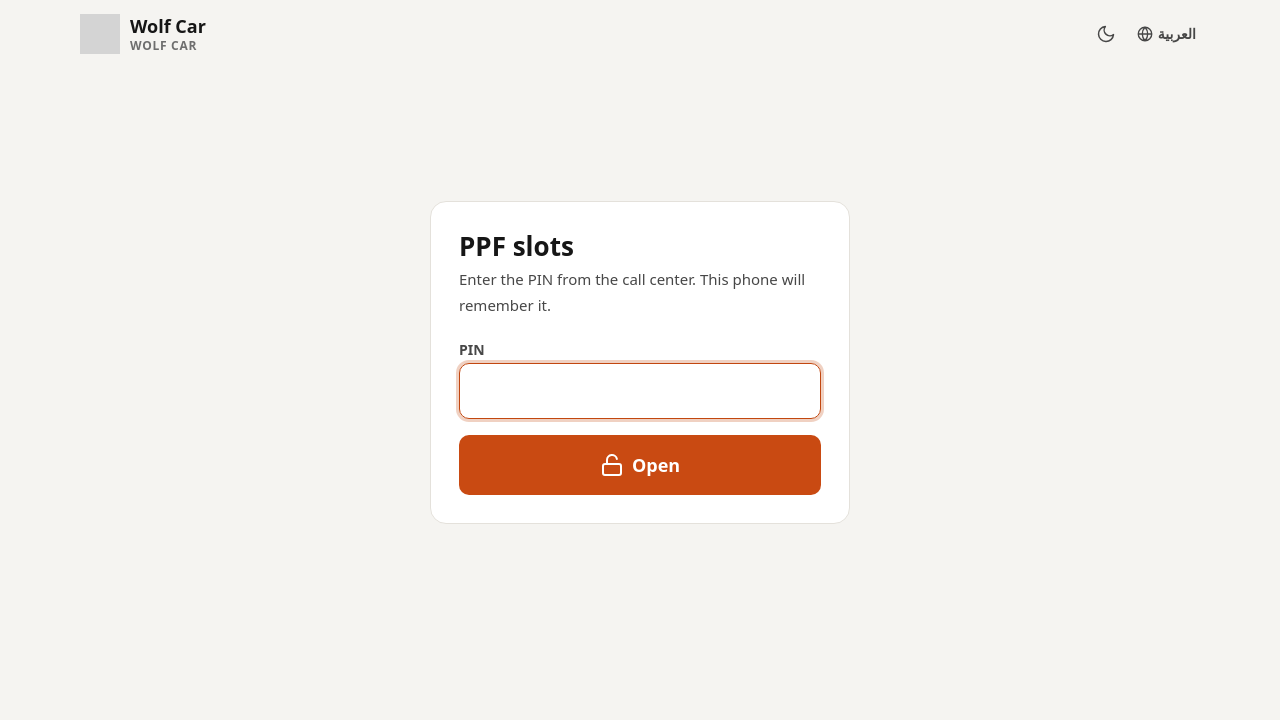
it: Sales slots page › tells the salesperson how long the PIN is locked
Type "482915" into the field labelled "PIN" at (640, 390), box [459, 362, 821, 418]
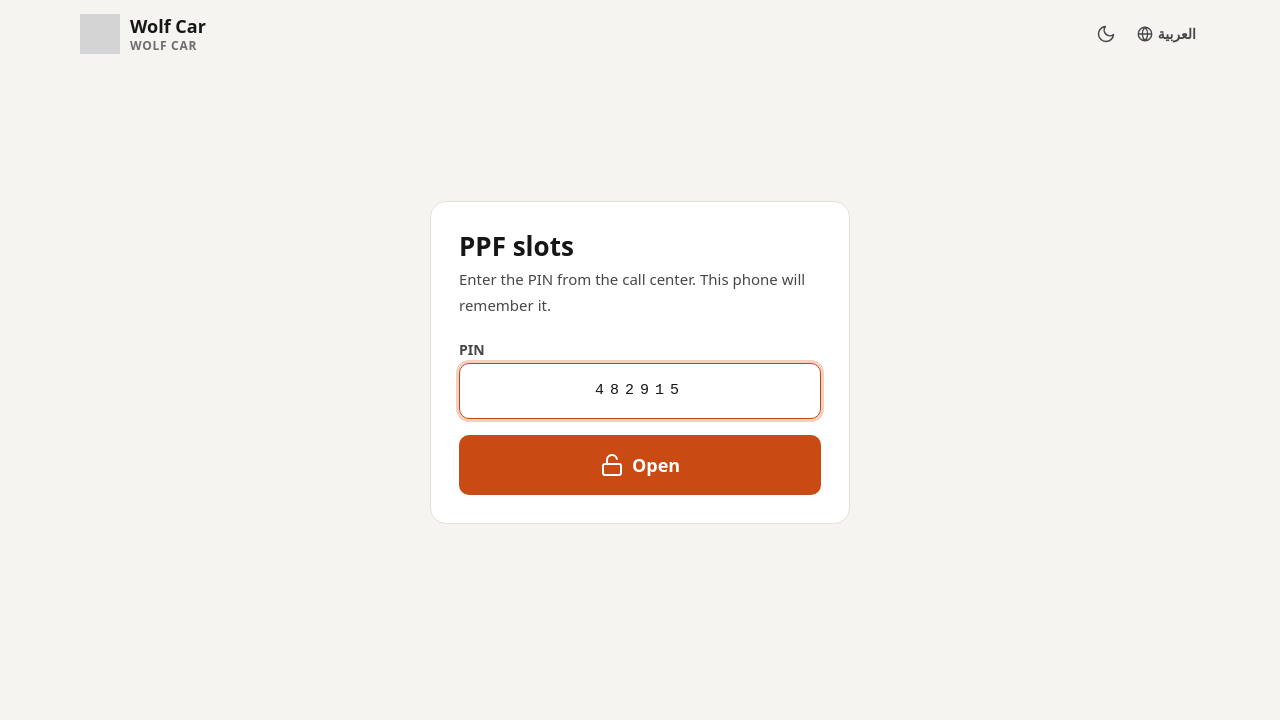
Click the button "Open" at (640, 464), box [459, 434, 821, 494]
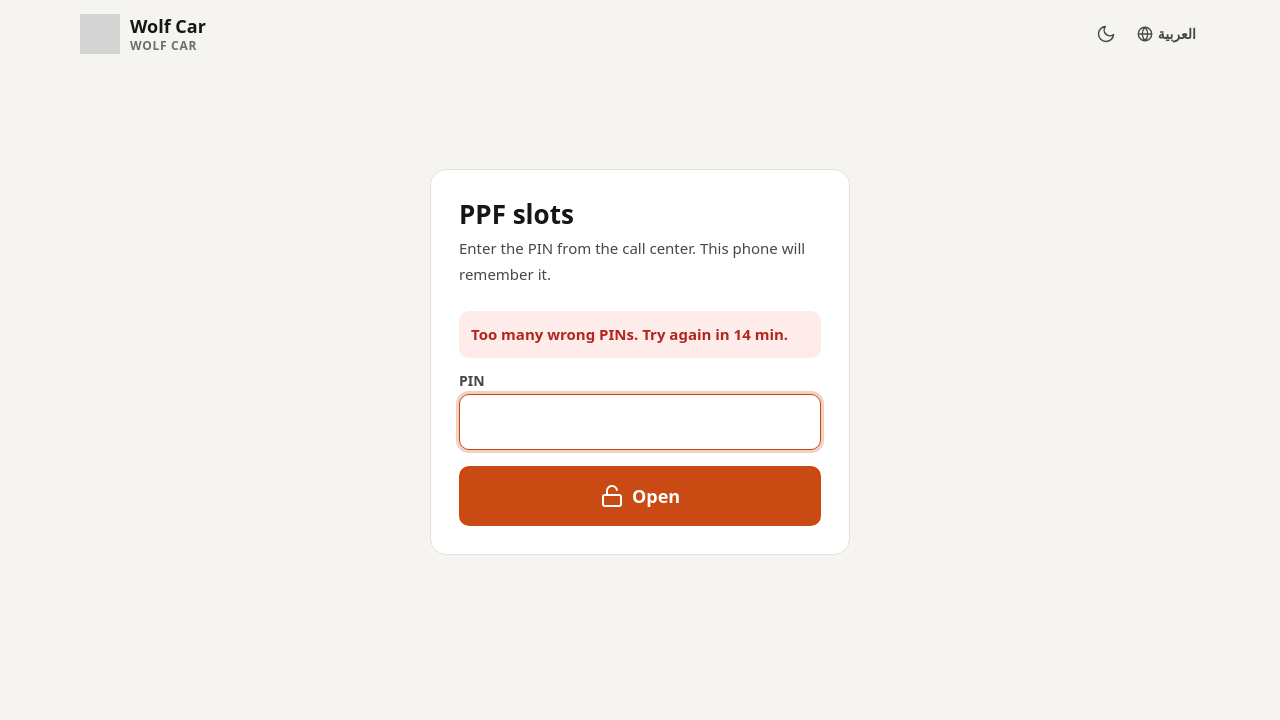
Expected: the message reads "Too many wrong PINs. Try again in 14 min.", [471, 324, 788, 344]
